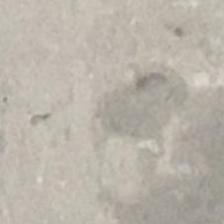Non_Crack: (37, 36, 224, 207)
